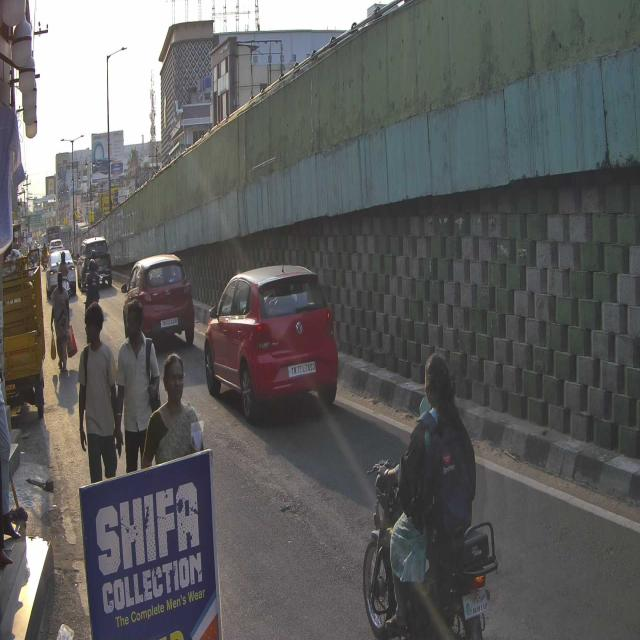single_rider: (362, 352, 502, 640)
